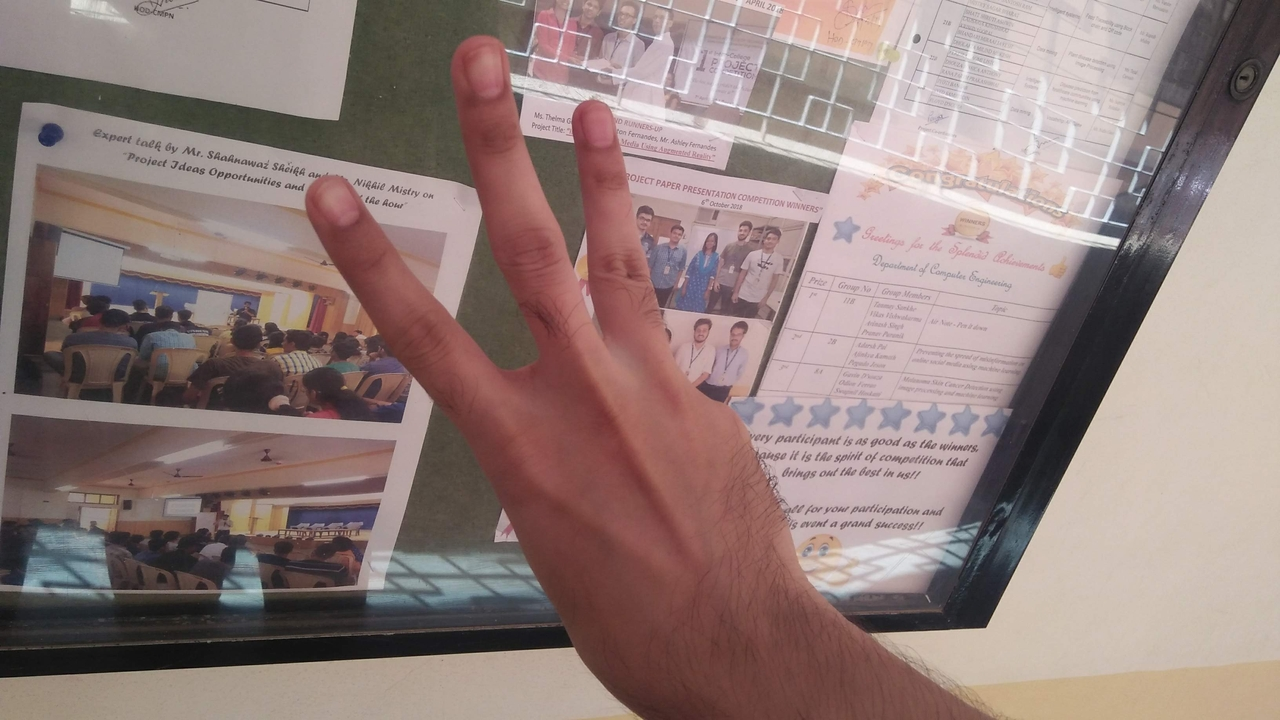fingertip: (294, 168, 366, 234), (452, 34, 510, 94), (568, 94, 622, 146)
